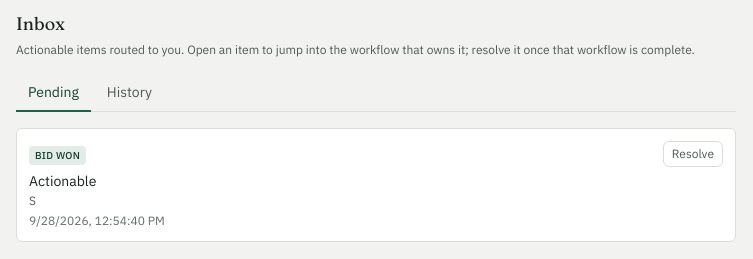
Scenario: InboxPage › resolves an item and refreshes the list
Expected: the text "Actionable" is shown, [29, 172, 96, 190]
What coordinates should you click on to do the following:
click the button "Resolve"
I would click on:
 (693, 154)
Its box is [663, 141, 723, 167].
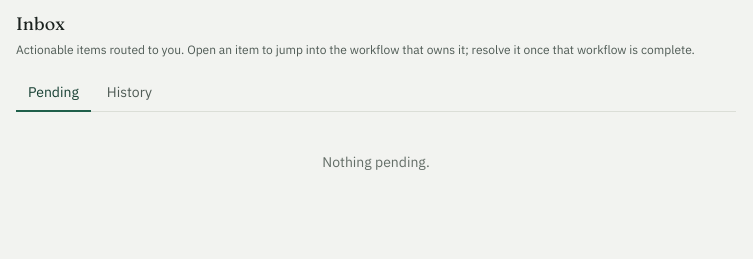
Now the text "Nothing pending." is shown, box [322, 153, 430, 171]
